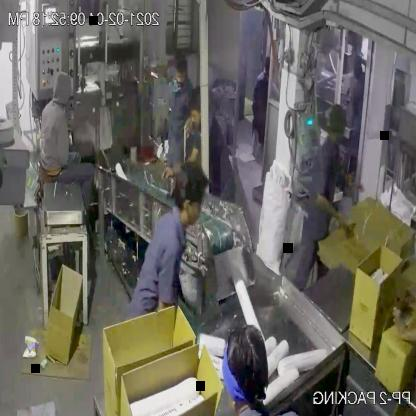no_glove: (309, 183, 357, 236), (389, 311, 416, 363)
